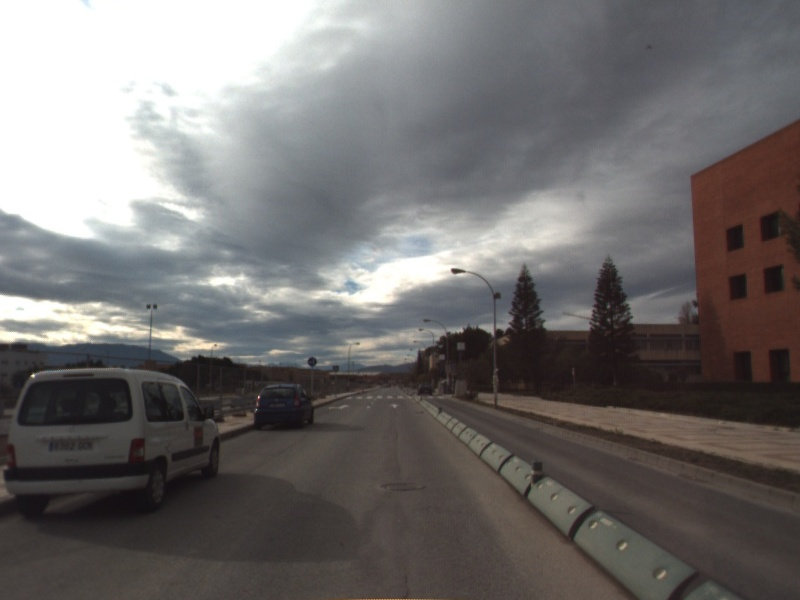STRAIGHT: (387, 402, 402, 410)
STRAIGHT_LEFT: (326, 402, 352, 412)
